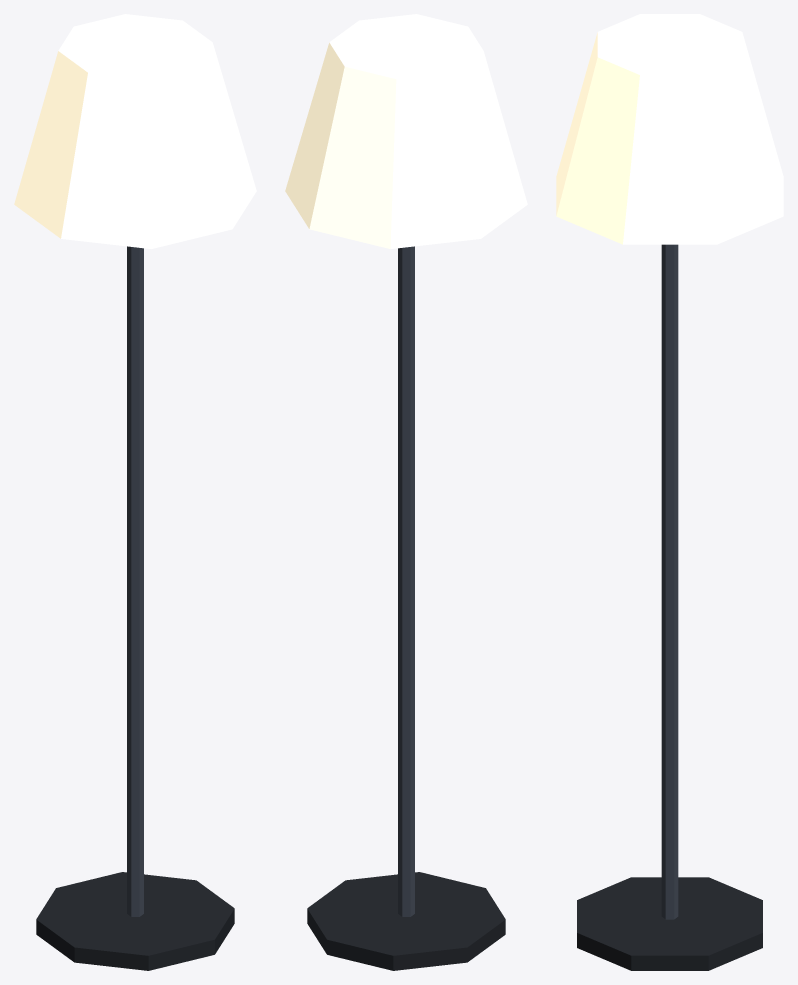
The model's file is floor_lamp.glb.
The picture shows the model from 3 angles, left to right: view 1: azimuth 30°, elevation 25°; view 2: azimuth 150°, elevation 25°; view 3: azimuth 270°, elevation 25°; orthographic projection.
Parts seen in each view (by area): view 1: floor_lamp; view 2: floor_lamp; view 3: floor_lamp.
Boxes of the visible parts, bbox=[...] form: floor_lamp: bbox=[14, 14, 256, 970]; floor_lamp: bbox=[285, 14, 527, 970]; floor_lamp: bbox=[556, 14, 783, 970].
Bounding box in the file's own units: 0.4065 × 1.75 × 0.4065.
